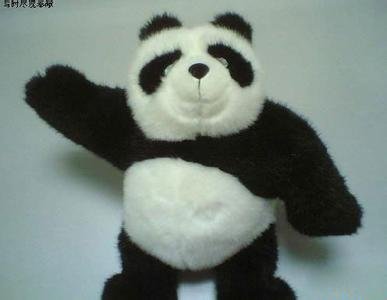panda: (24, 8, 365, 300)
